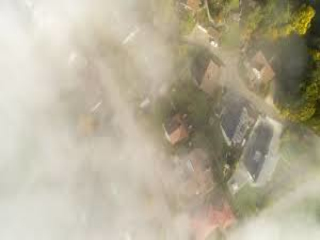smoke: (83, 47, 189, 199)
